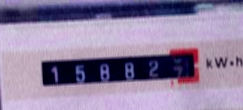1: (46, 63, 58, 83)
2: (145, 58, 157, 77)
5: (71, 62, 83, 83)
7: (170, 64, 181, 78)
8: (96, 60, 108, 82), (121, 60, 133, 81)
screen: (30, 42, 207, 94)
